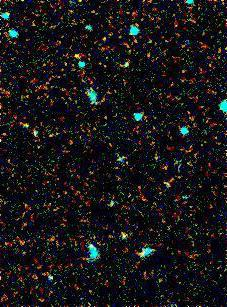star: (63, 40, 93, 70)
